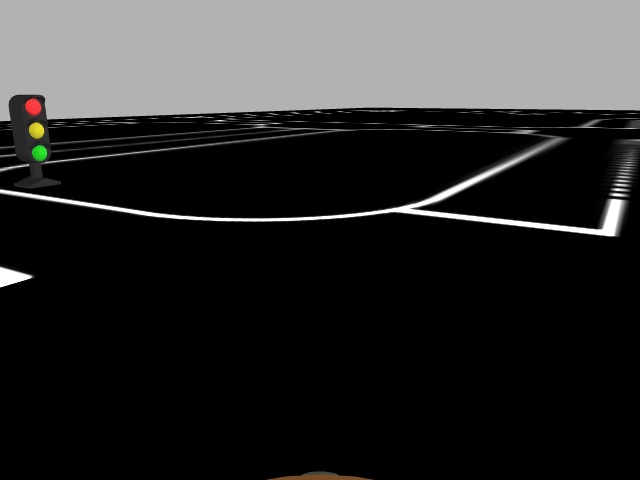red_light: (14, 91, 52, 166)
